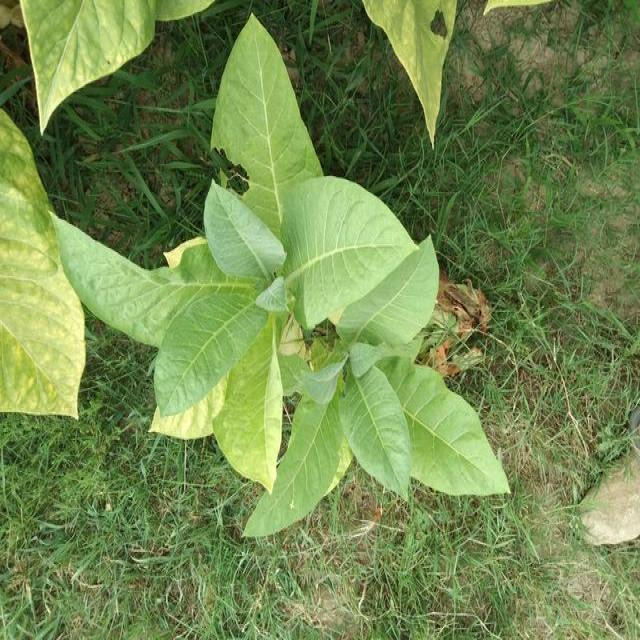crop: (149, 9, 519, 524)
